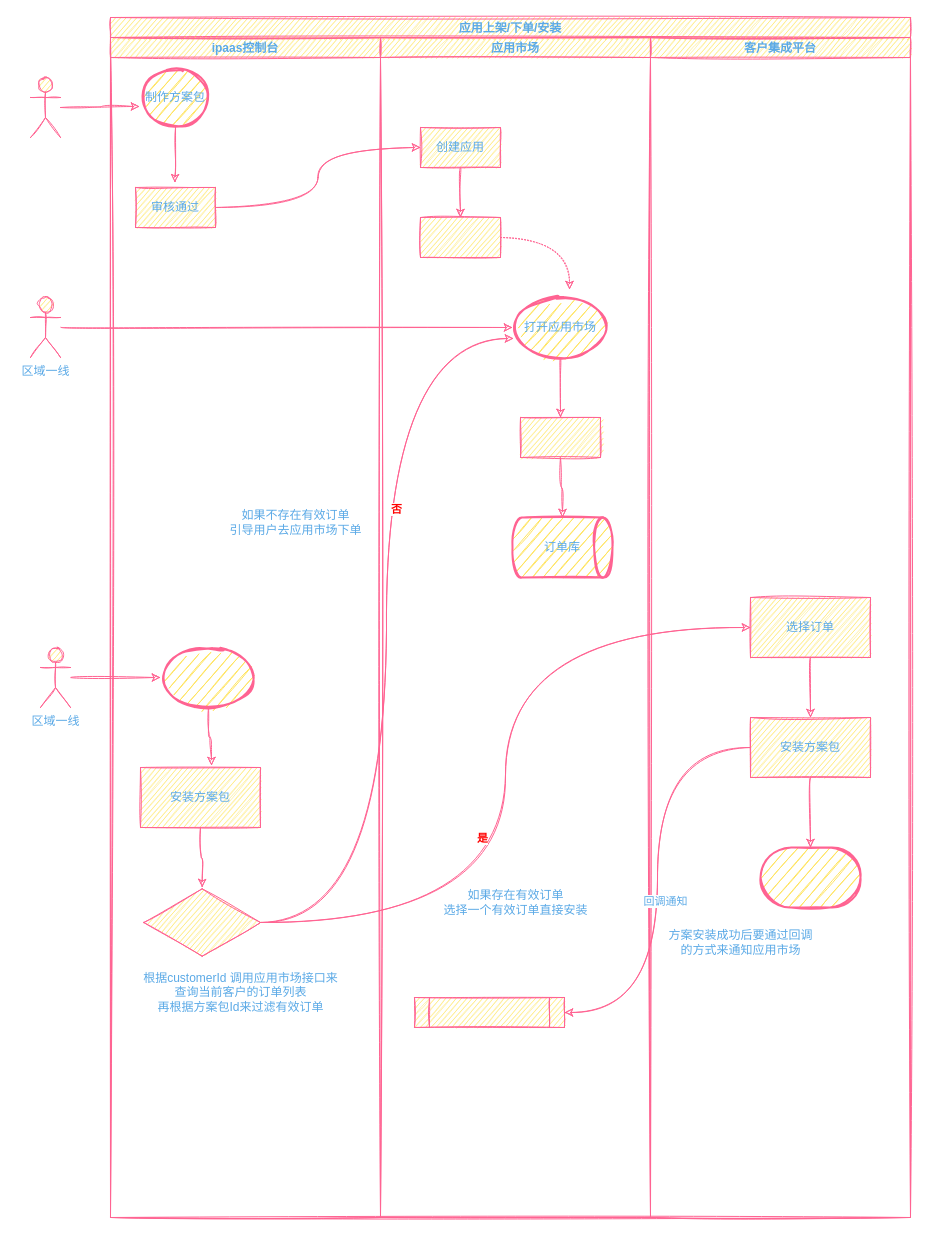
Some shapes in this 928 by 1235 pixel diagram are drawn without their labels. The shapes that lost their labels are listed below. From the top down, each one's centre as x and y in pixels, then its label:
At pixel 45 107: "MIP管理员".
At pixel 460 237: "关联方案包".
At pixel 560 437: "下单".
At pixel 208 677: "选择方案包".
At pixel 810 877: "配置方案".
At pixel 201 922: "当前客户是否 存在有效订单".
At pixel 489 1012: "回调接口".
